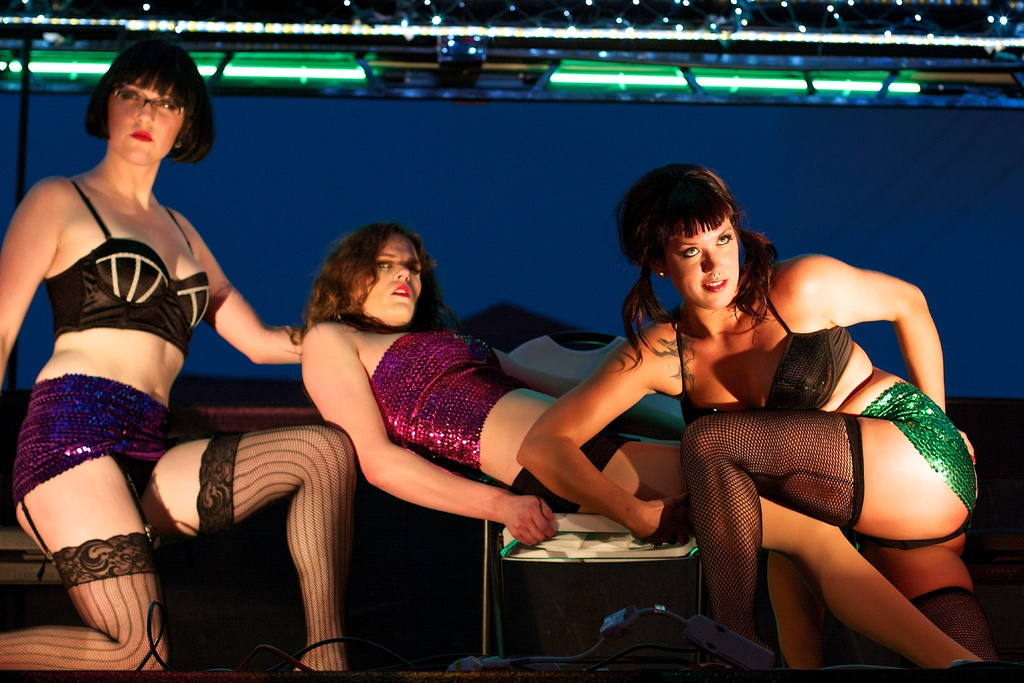Person: (288, 219, 825, 669)
